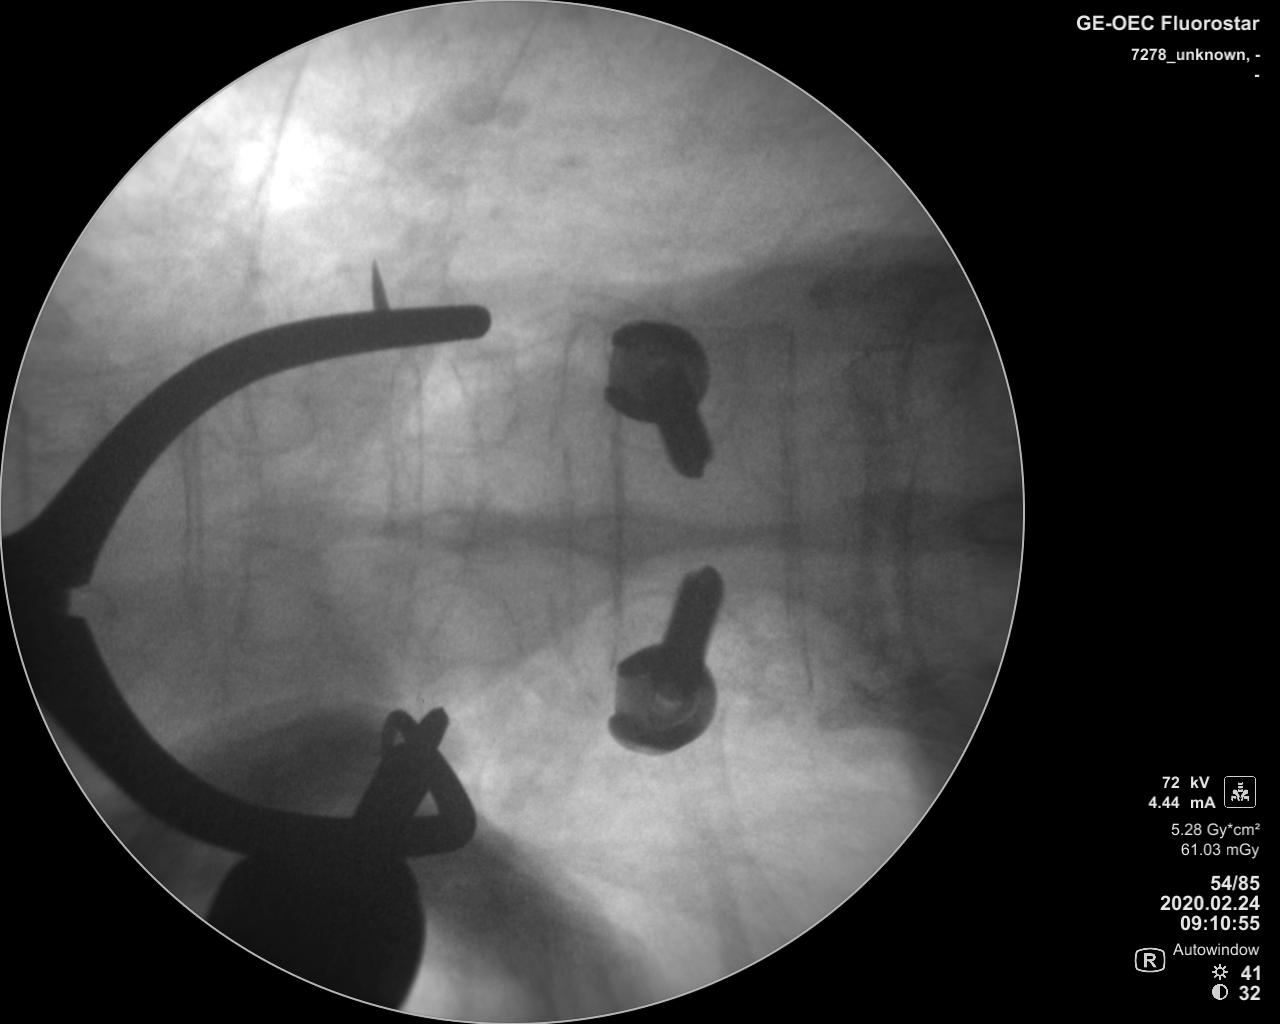eyes: (391, 347, 528, 458), (404, 582, 521, 670), (222, 574, 321, 651), (213, 391, 321, 457)
line: (376, 366, 419, 639), (776, 342, 810, 676), (172, 435, 208, 639), (601, 416, 630, 658)
nose: (758, 490, 950, 561), (203, 501, 366, 552), (390, 501, 552, 549), (561, 509, 702, 560)
